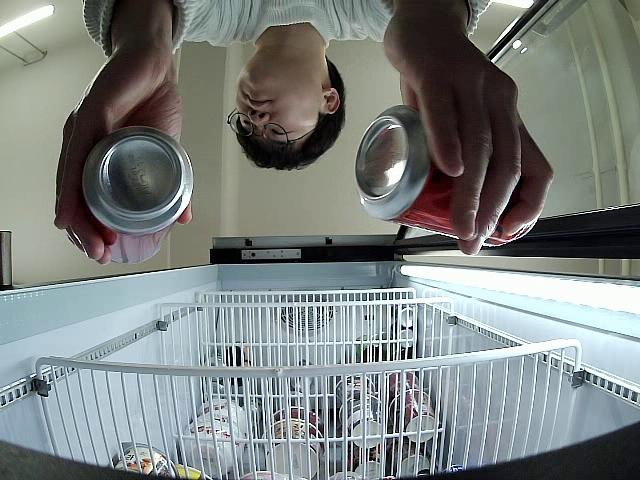00_hand: (384, 24, 554, 258), (54, 48, 194, 264)
11_cocaColaZero: (354, 104, 538, 247), (80, 128, 194, 266)
